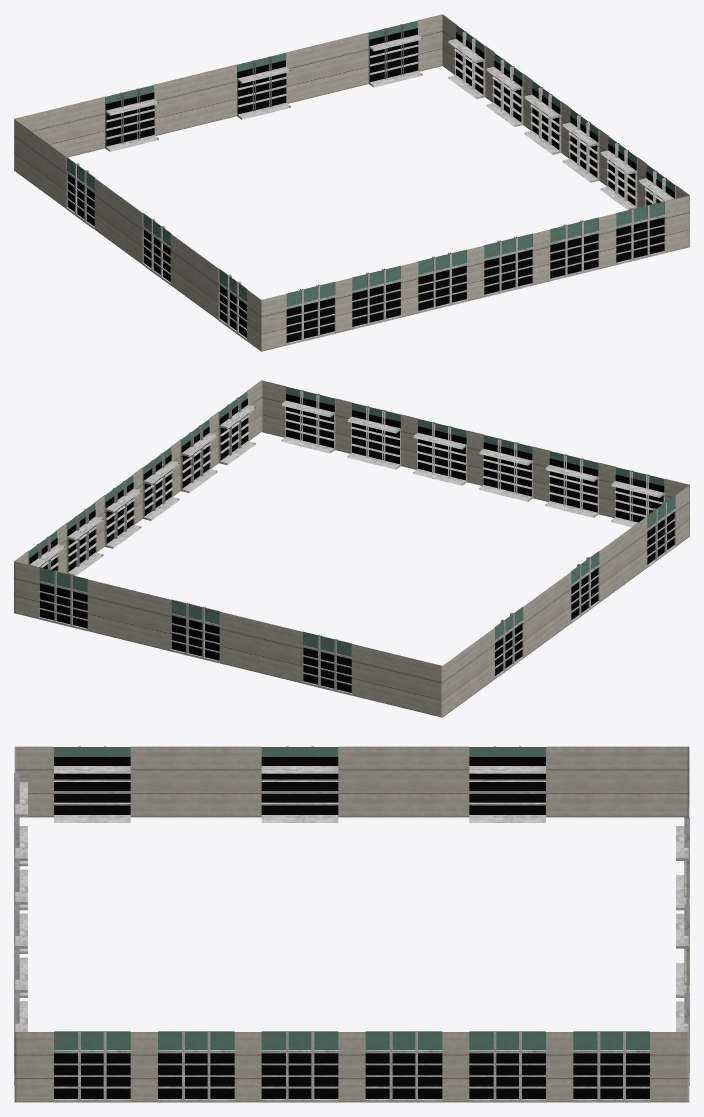
The model's file is BuildingD_Mid_Shell_VarA.fbx.
The picture shows the model from 3 angles, top to bottom: view 1: azimuth 30°, elevation 25°; view 2: azimuth 150°, elevation 25°; view 3: azimuth 270°, elevation 25°; orthographic projection. The views are drawn at different scales.
Visible parts, largest first — view 1: BuildingD_Mid_Shell_VarA; view 2: BuildingD_Mid_Shell_VarA; view 3: BuildingD_Mid_Shell_VarA.
Part boxes in pixels (x1,y1,x2,y2): BuildingD_Mid_Shell_VarA: (14,14,689,351); BuildingD_Mid_Shell_VarA: (14,380,689,717); BuildingD_Mid_Shell_VarA: (14,746,689,1102).
Bounding box in the file's own units: 2604 × 300 × 2604.
